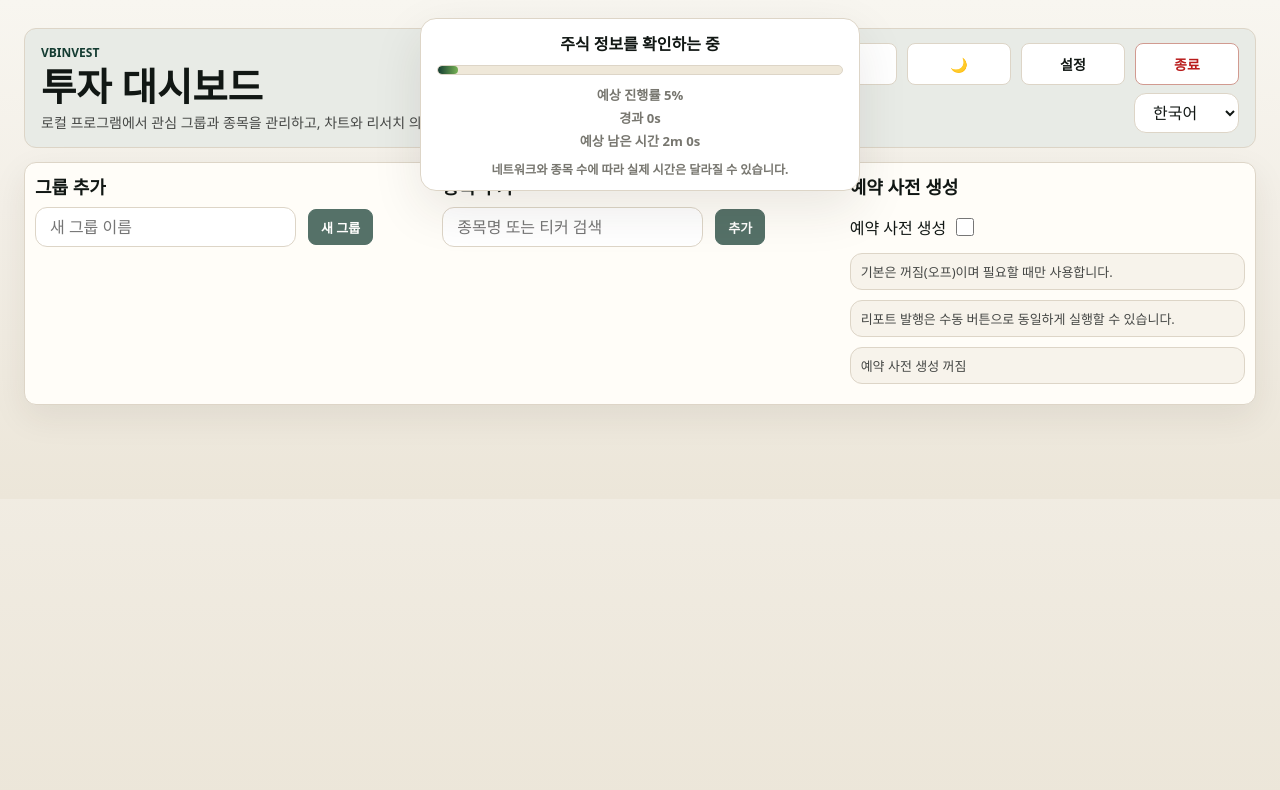
Test: WatchlistDashboard › switches dashboard language and persists it with the local session token
The width and height of the screenshot is (1280, 790).
Expected: the heading "투자 대시보드" is shown, top-left (41, 60), bottom-right (263, 112)
Select "English" in the dropdown named "언어" at point(1186, 113), box top-left (1134, 93), bottom-right (1239, 133)
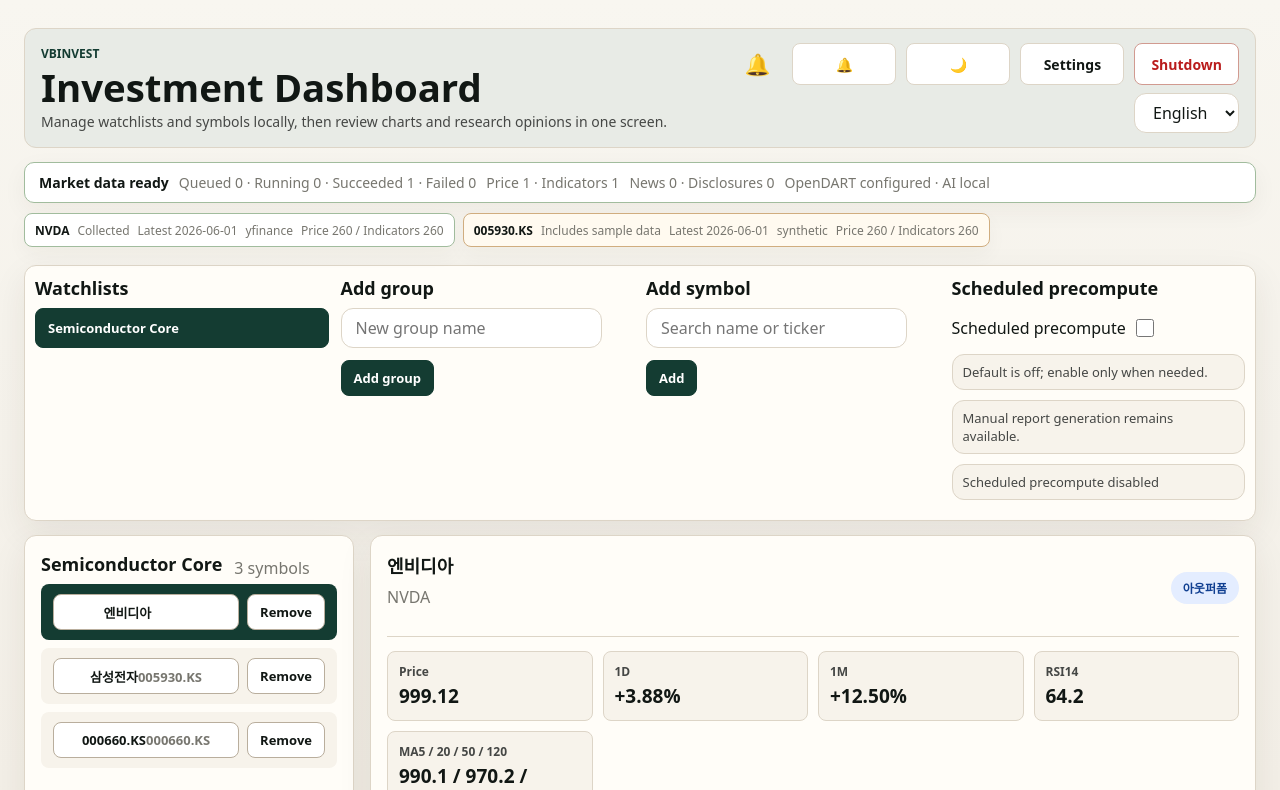
Expected: the heading "Investment Dashboard" is shown, top-left (41, 61), bottom-right (482, 113)
